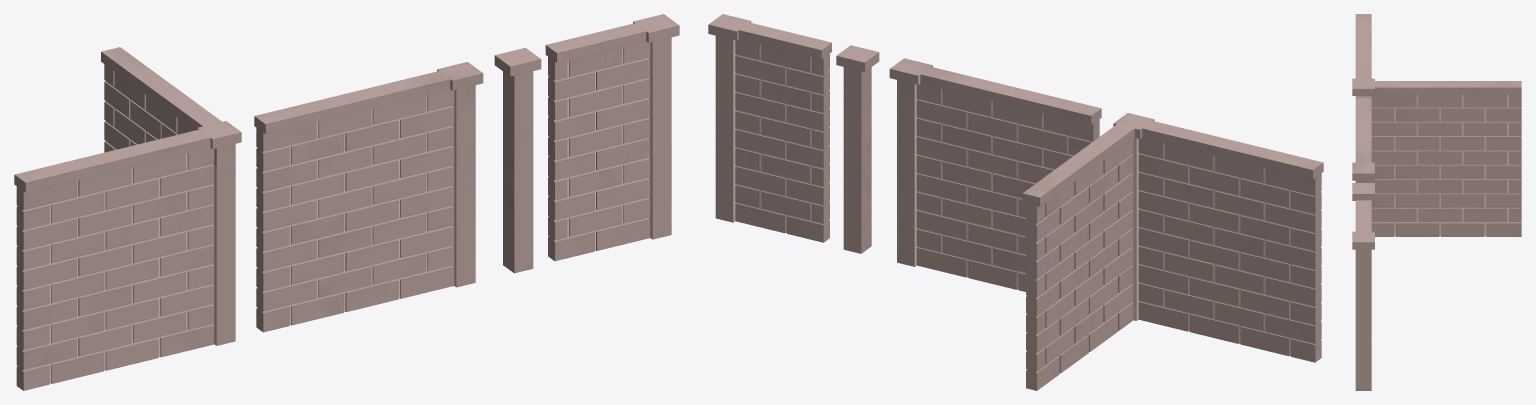
Rendered from Wall 11.glb.
The picture shows the model from 3 angles, left to right: view 1: azimuth 30°, elevation 25°; view 2: azimuth 150°, elevation 25°; view 3: azimuth 270°, elevation 25°; orthographic projection. The views are drawn at different scales.
Parts seen in each view (by area): view 1: modular_wall_corner_low, modular_wall_straight_low, modular_wall_straight_small_low, modular_wall_pier_low; view 2: modular_wall_corner_low, modular_wall_straight_low, modular_wall_straight_small_low, modular_wall_pier_low; view 3: modular_wall_corner_low, modular_wall_straight_small_low, modular_wall_straight_low, modular_wall_pier_low.
Boxes of the visible parts, box(x1,y1,x2,y2) form: modular_wall_corner_low: box(14, 47, 241, 390); modular_wall_straight_low: box(254, 62, 483, 332); modular_wall_straight_small_low: box(545, 14, 679, 261); modular_wall_pier_low: box(494, 48, 541, 273); modular_wall_corner_low: box(1022, 113, 1323, 390); modular_wall_straight_low: box(889, 58, 1101, 291); modular_wall_straight_small_low: box(708, 14, 831, 242); modular_wall_pier_low: box(836, 45, 879, 253); modular_wall_corner_low: box(1352, 14, 1521, 236); modular_wall_straight_small_low: box(1352, 200, 1374, 390); modular_wall_straight_low: box(1352, 98, 1374, 182); modular_wall_pier_low: box(1352, 183, 1374, 200).
Bounding box in the file's own units: 2 × 0.6152 × 0.6261.
1 material, 1 textured.
